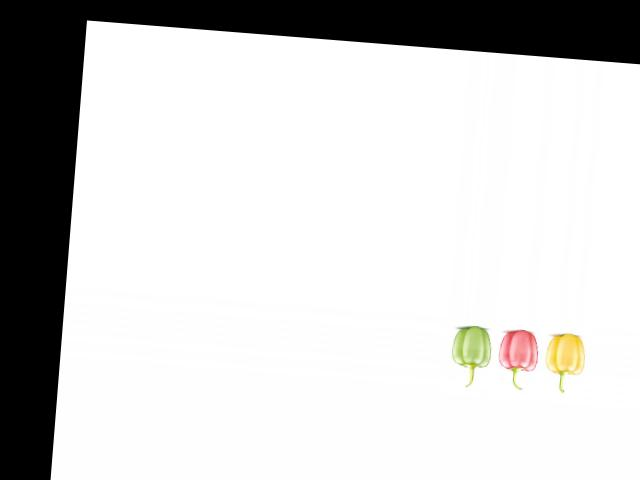bell_pepper: (445, 321, 492, 388)
